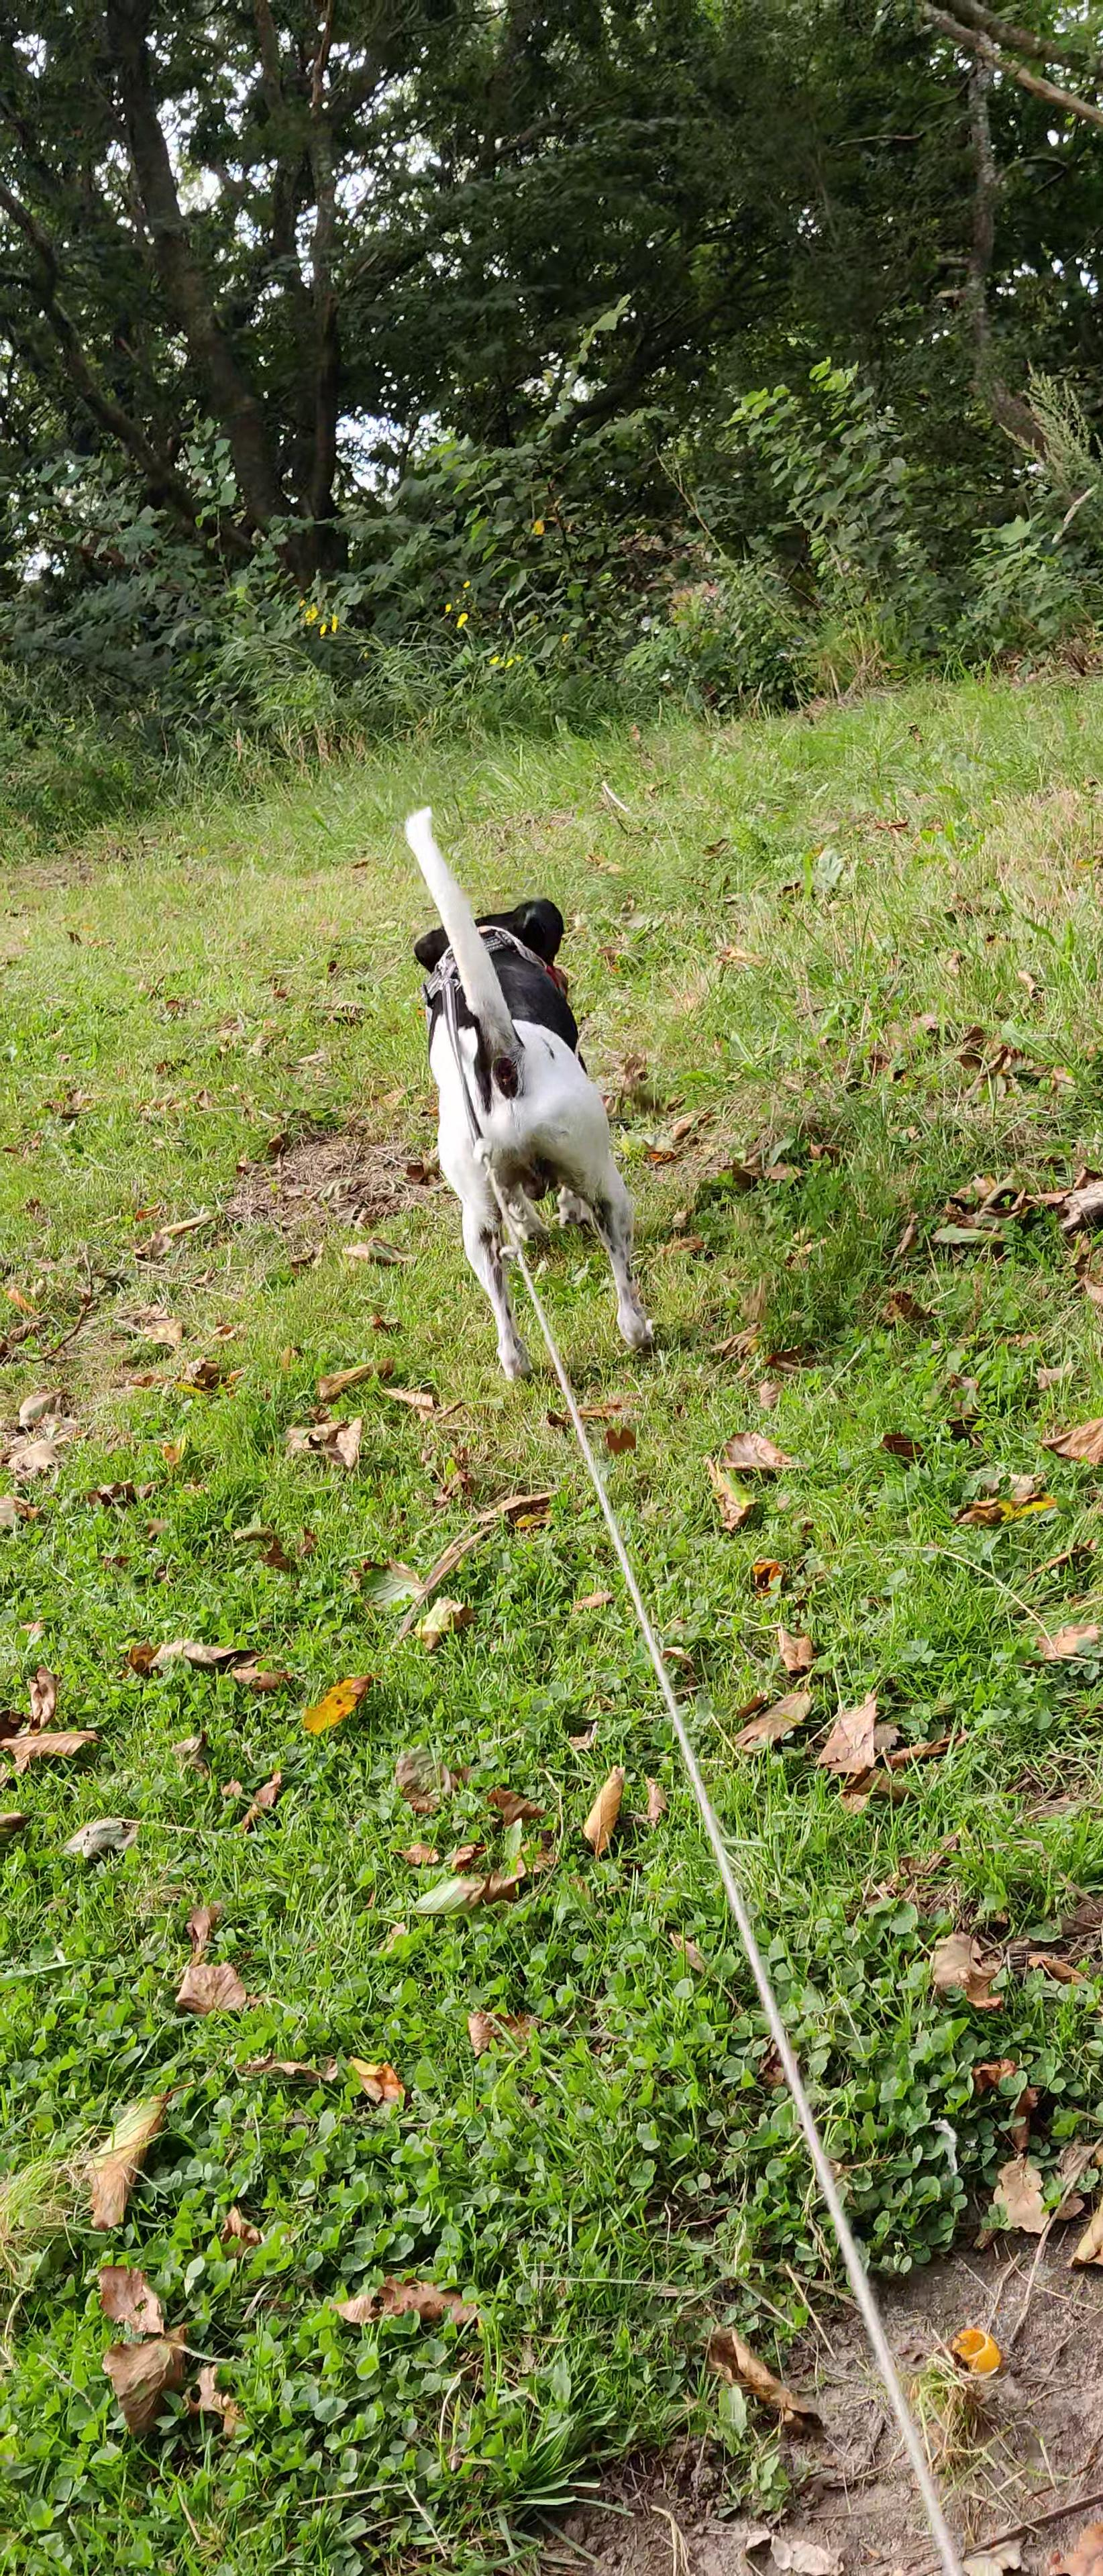Dog: (358, 769, 692, 1400)
